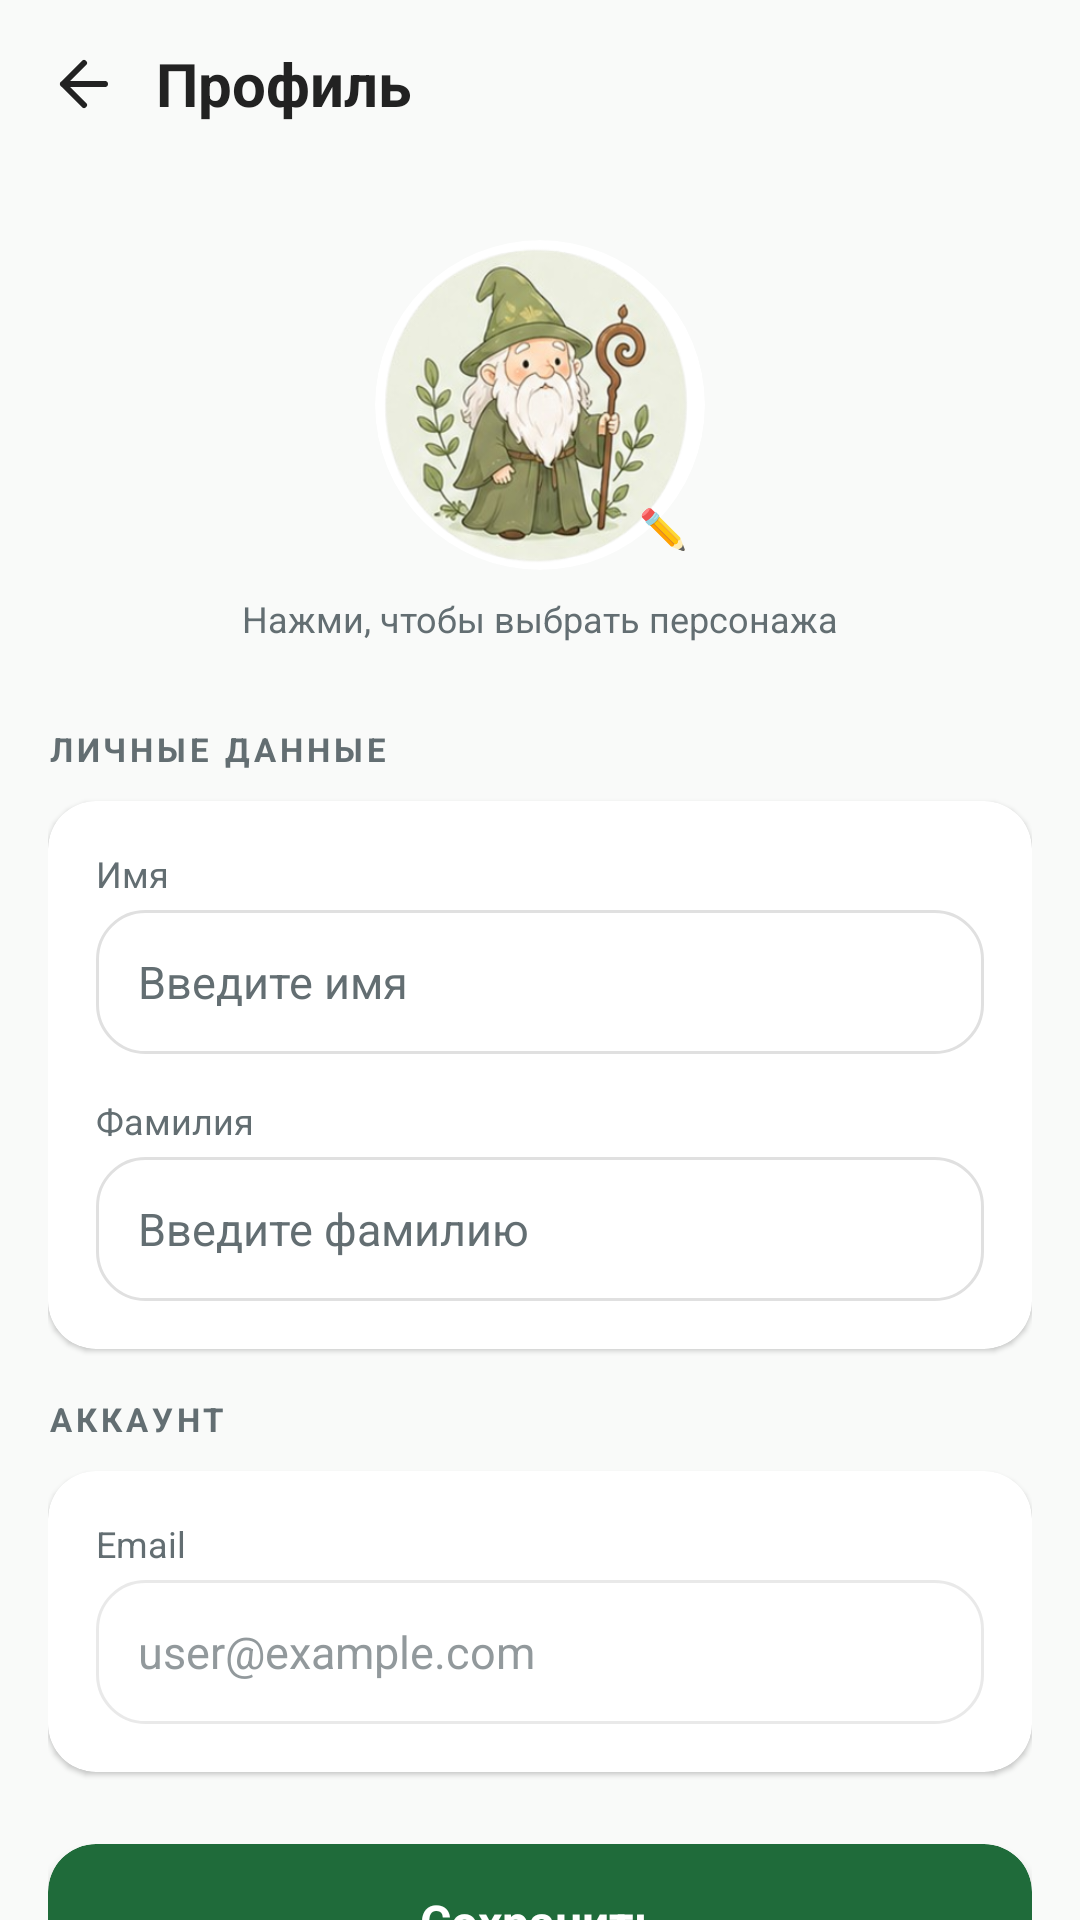

Icons on this 1080px x 1920px Android screen, each with the point to tap as [x,y]:
Назад: [84,84]
